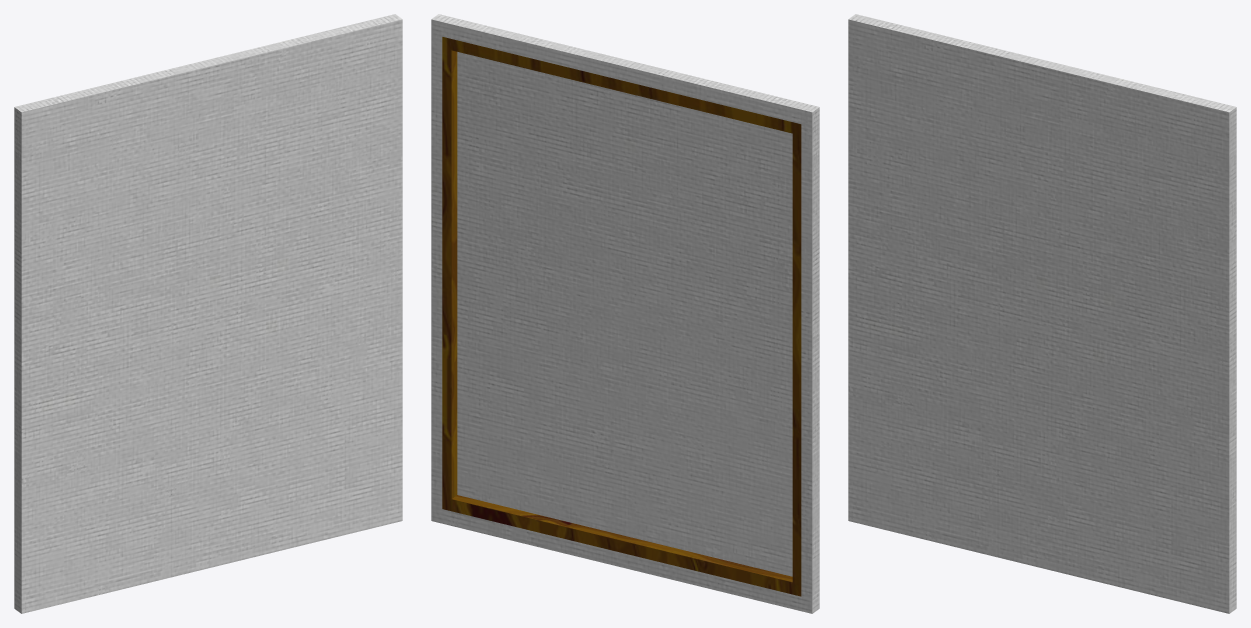
Rendered from painting-canadian-indians.gltf.
The picture shows the model from 3 angles, left to right: view 1: azimuth 30°, elevation 25°; view 2: azimuth 150°, elevation 25°; view 3: azimuth 330°, elevation 25°; orthographic projection.
Parts seen in each view (by area): view 1: painting_canvas; view 2: painting_canvas (×2); view 3: painting_canvas.
Boxes of the visible parts, x1,y1,x2,y2 form: painting_canvas: (14,14,402,613); painting_canvas (×2): (431,14,819,613); painting_canvas: (848,14,1236,613).
Bounding box in the file's own units: 3.17 × 3.98 × 0.1059.
2 materials, 2 textured.
